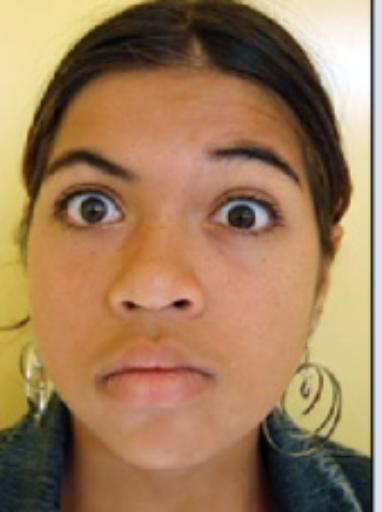left_eye: (204, 198, 285, 237)
left_lip_corner: (199, 367, 224, 387)
right_eye: (55, 190, 127, 233)
right_lip_corner: (93, 369, 113, 387)
